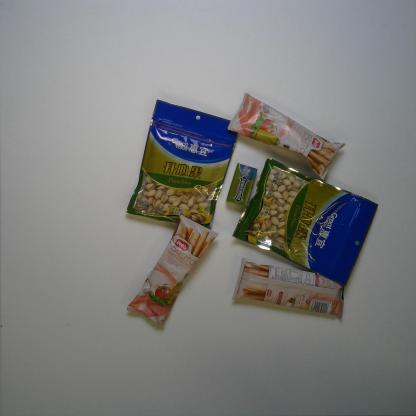Dessert: (224, 90, 348, 180), (125, 213, 219, 327), (232, 256, 345, 320)
Dried Fruit: (232, 157, 378, 290), (122, 98, 240, 228)
Gum: (225, 162, 258, 209)
